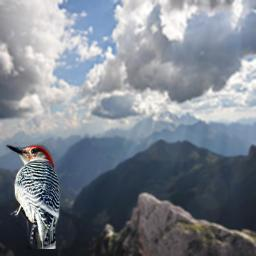Woodpecker: (3, 139, 63, 249)
